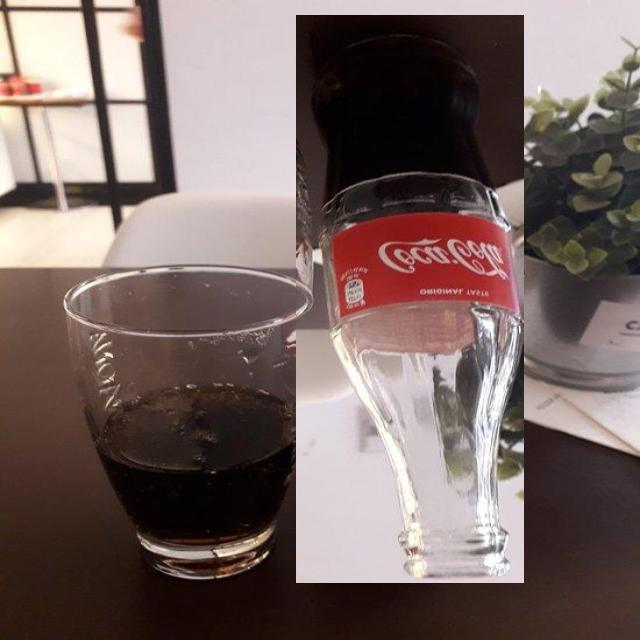coca-cola: (296, 15, 524, 583)
